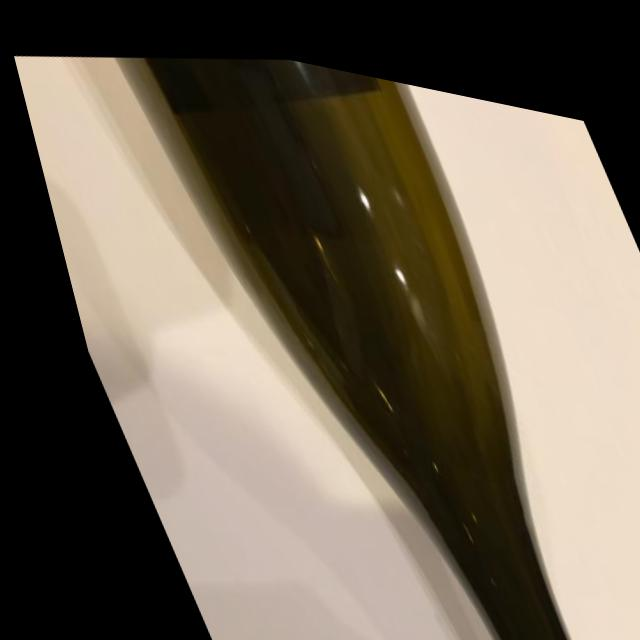glass: (82, 13, 640, 640)
